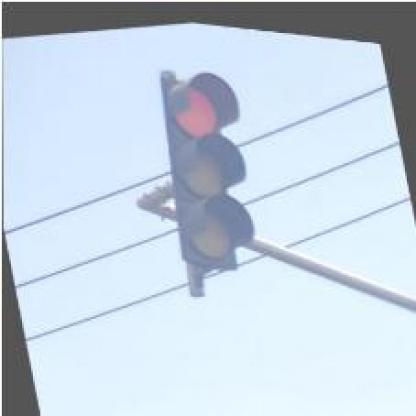red: (144, 55, 270, 275)
